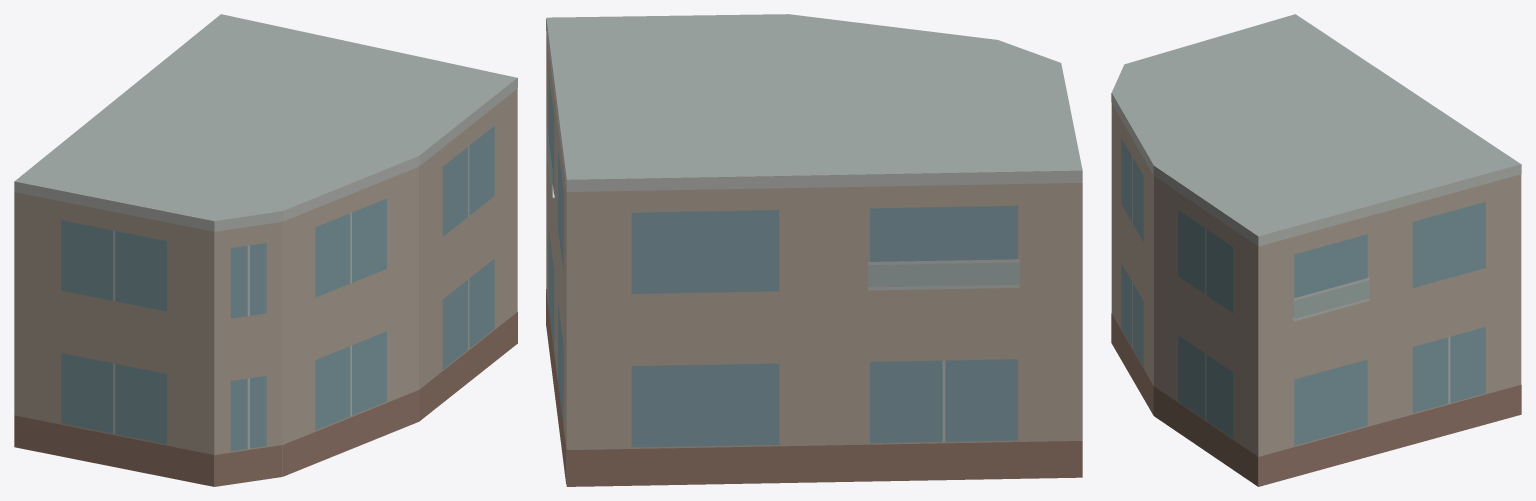
Rendered from survey-upis-32895741.glb.
3 views of the same model, side by side, from view 1: azimuth 30°, elevation 25°; view 2: azimuth 150°, elevation 25°; view 3: azimuth 270°, elevation 25° (orthographic). The views are drawn at different scales.
Visible parts, largest first — view 1: survey-upis-32895741.tmp; view 2: survey-upis-32895741.tmp; view 3: survey-upis-32895741.tmp.
Part boxes in pixels (<box>): survey-upis-32895741.tmp: <box>14,14,517,486</box>; survey-upis-32895741.tmp: <box>546,14,1082,486</box>; survey-upis-32895741.tmp: <box>1111,14,1521,486</box>.
Bounding box in the file's own units: 11.64 × 6.1 × 9.06.
